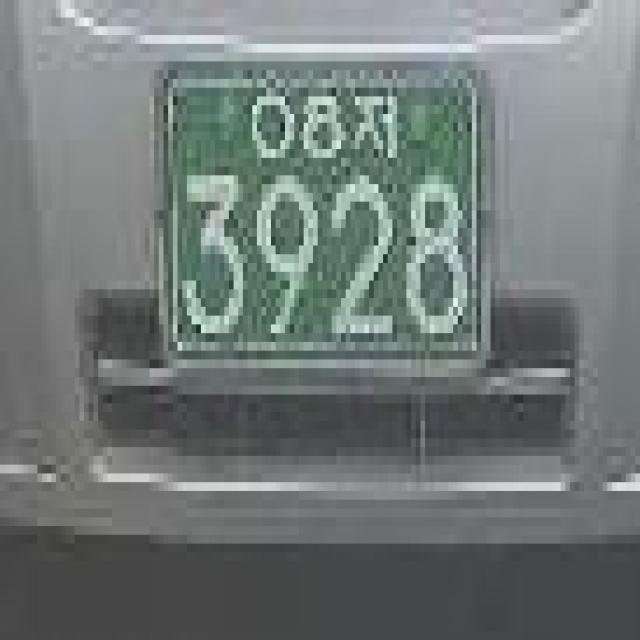illegal_plate: (143, 53, 501, 385)
